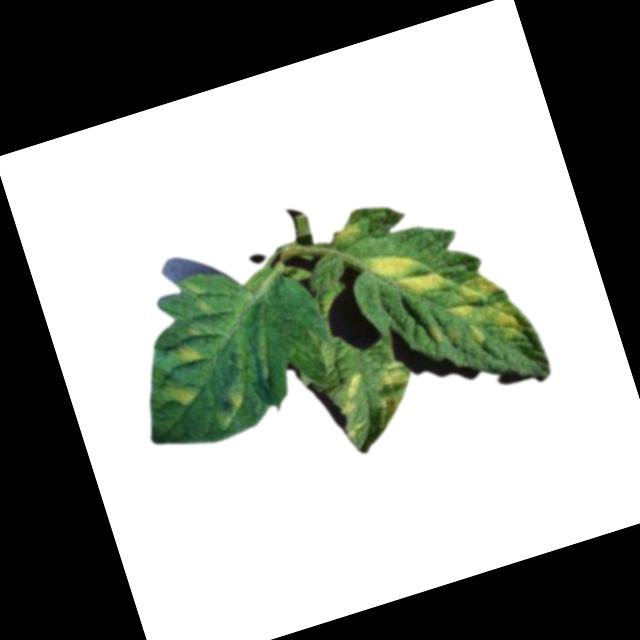Leaf_Mold: (436, 267, 524, 363), (362, 240, 445, 310), (365, 357, 423, 424), (329, 369, 378, 438), (164, 379, 200, 412), (328, 218, 366, 249), (221, 384, 249, 415), (172, 339, 200, 368)
